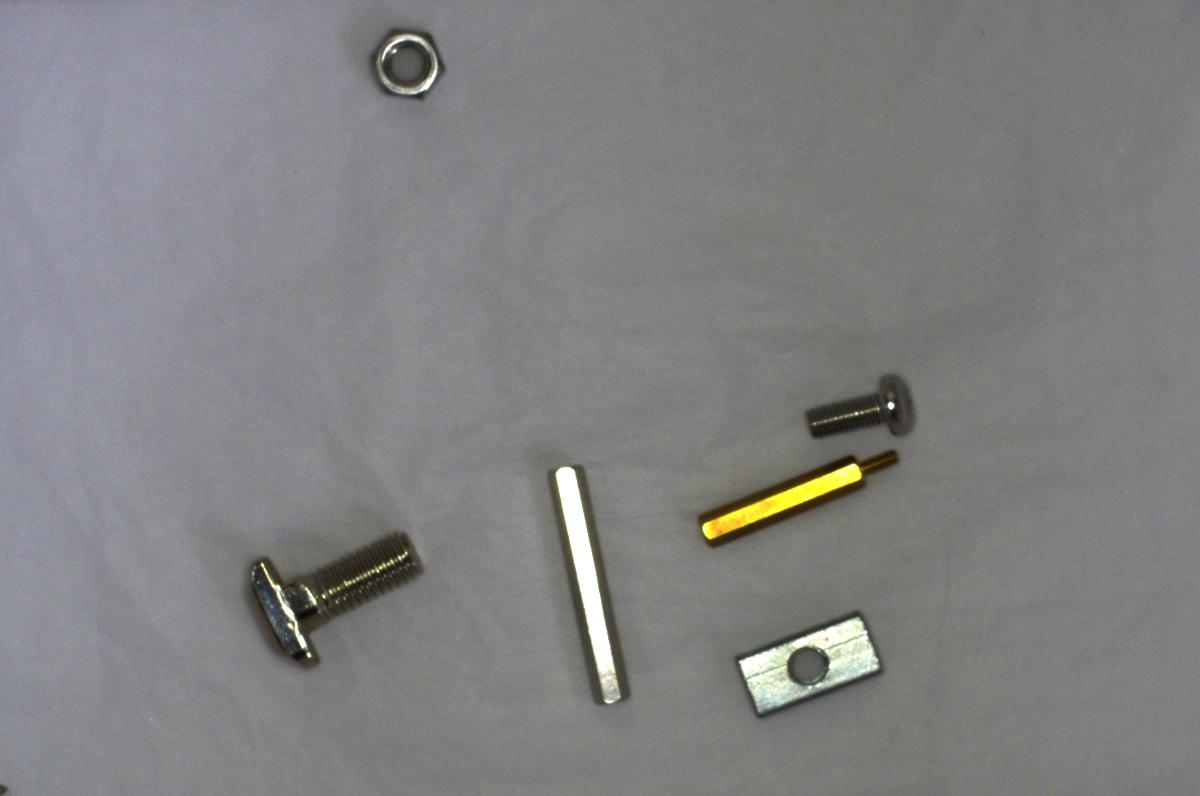Double hexagonal column: (542, 454, 628, 710)
Hexagon nut: (360, 20, 451, 109)
Hexagon pillar: (684, 436, 902, 546)
Rectangular nut: (730, 609, 884, 718)
Round head screw: (797, 362, 919, 445)
T-shaped screw: (239, 526, 426, 673)
